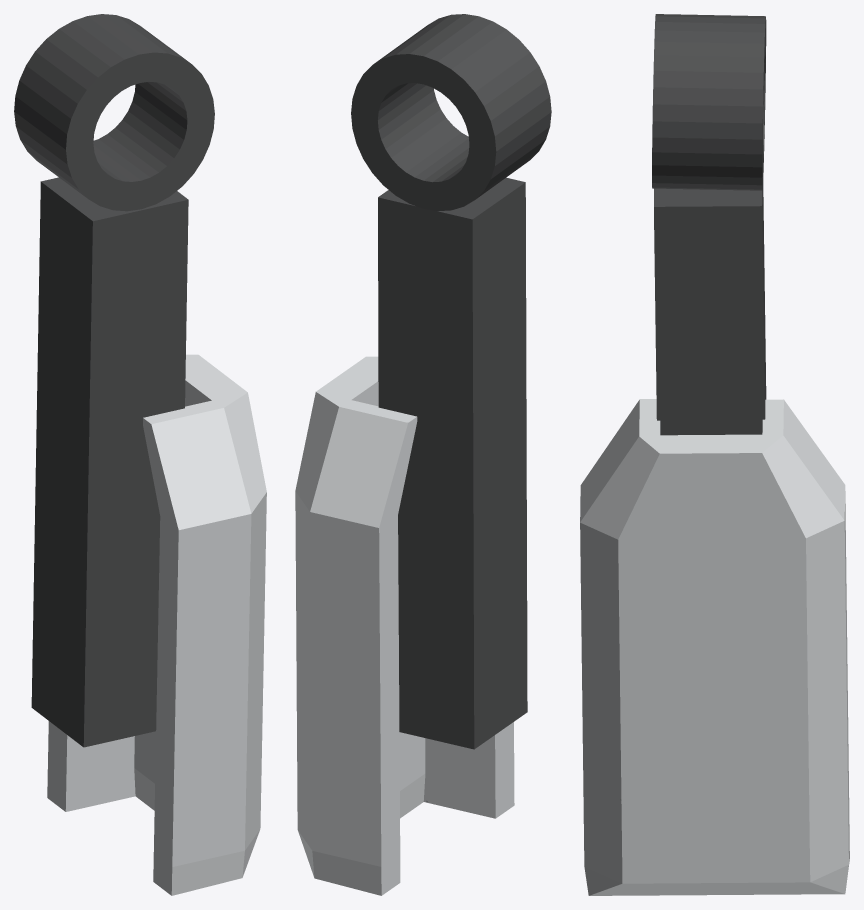
Rendered from upperarm.fbx.
The picture shows the model from 3 angles, left to right: view 1: azimuth 30°, elevation 25°; view 2: azimuth 150°, elevation 25°; view 3: azimuth 270°, elevation 25°; orthographic projection. The views are drawn at different scales.
Parts seen in each view (by area): view 1: Cube; view 2: Cube; view 3: Cube.
Part boxes in pixels (x1,y1,x2,y2): Cube: (14,14,266,895); Cube: (295,14,551,895); Cube: (580,14,849,895).
Size of the model in its own units: 192 by 811 by 237.
1 material, 1 textured.
